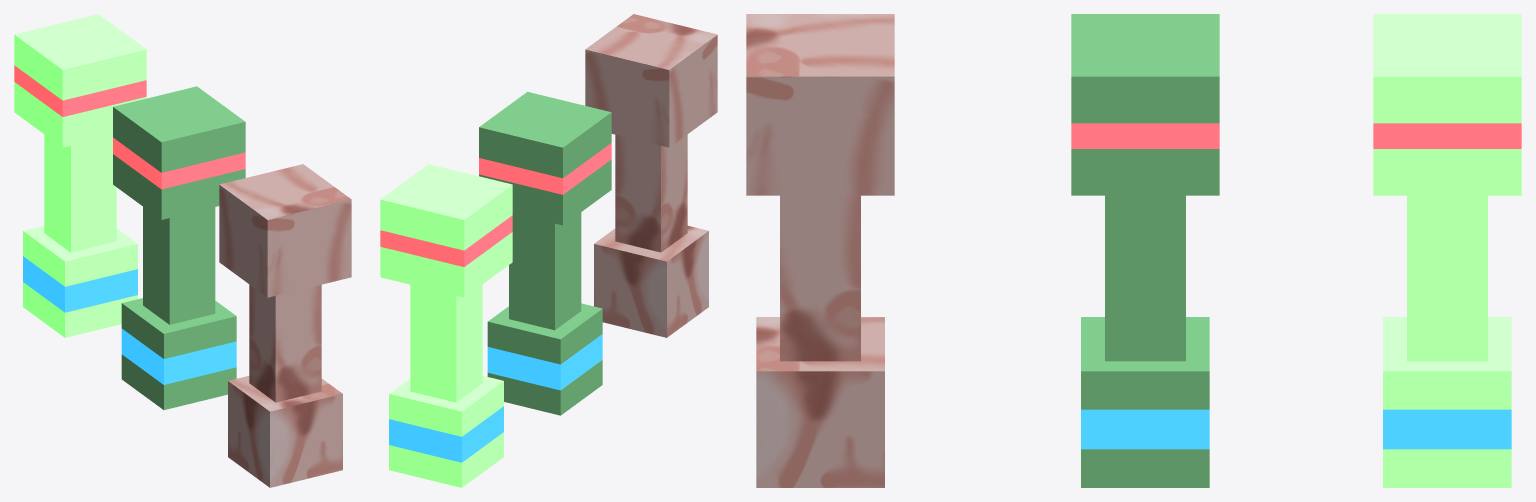
The model's file is Modeloseparado2.gltf.
3 renders of one model, left to right at view 1: azimuth 30°, elevation 25°; view 2: azimuth 150°, elevation 25°; view 3: azimuth 270°, elevation 25°, orthographic. The views are drawn at different scales.
Visible parts, largest first — view 1: Cube.002, Cube, Cube.001; view 2: Cube.001, Cube.002, Cube; view 3: Cube, Cube.001, Cube.002.
Part boxes in pixels (x1,y1,x2,y2): Cube.002: [219, 164, 351, 487]; Cube: [113, 86, 245, 409]; Cube.001: [14, 14, 146, 337]; Cube.001: [380, 164, 512, 487]; Cube.002: [585, 14, 717, 337]; Cube: [479, 91, 611, 415]; Cube: [1071, 14, 1219, 487]; Cube.001: [1373, 14, 1521, 487]; Cube.002: [746, 14, 894, 487].
Bounding box in the file's own units: 0.1871 × 0.5779 × 0.9774.
Materials: 5 (1 with a texture image).
